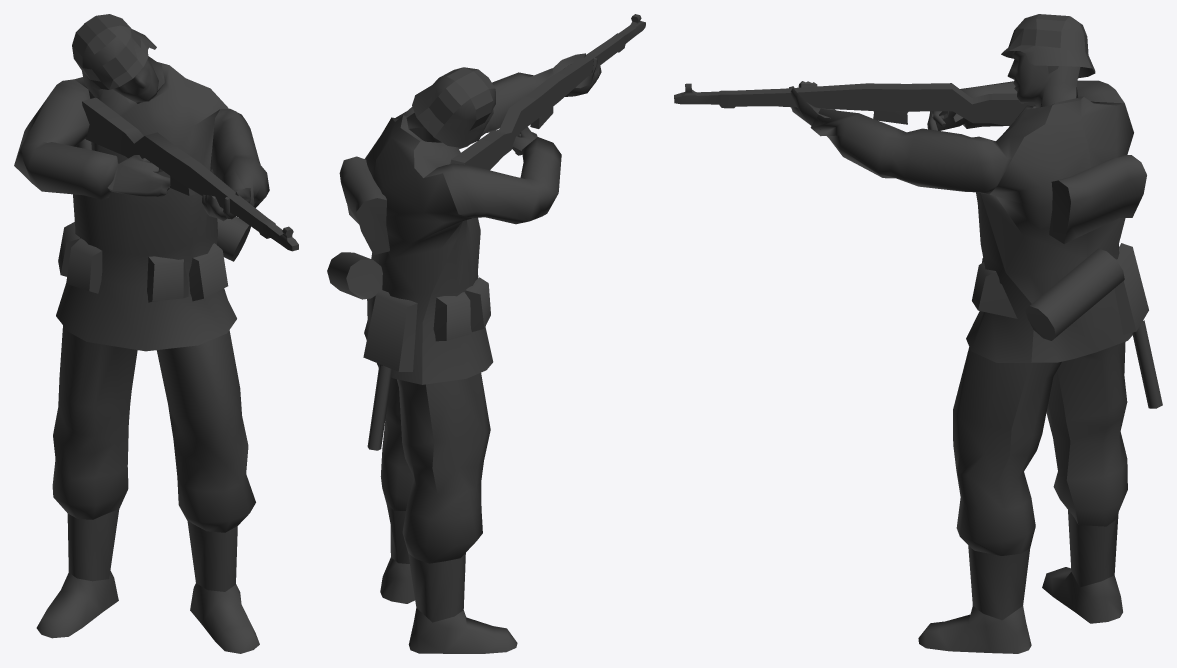
File: de_fucile2_piedi.glb
The picture shows the model from 3 angles, left to right: view 1: azimuth 30°, elevation 25°; view 2: azimuth 150°, elevation 25°; view 3: azimuth 270°, elevation 25°; orthographic projection. The views are drawn at different scales.
Parts seen in each view (by area): view 1: polySurface19.001_2; view 2: polySurface19.001_2; view 3: polySurface19.001_2.
Part boxes in pixels (x1,y1,x2,y2): polySurface19.001_2: [14, 14, 298, 653]; polySurface19.001_2: [327, 14, 645, 653]; polySurface19.001_2: [674, 14, 1162, 653].
Size of the model in its own units: 0.2048 by 0.5 by 0.374.
Materials: 1 (1 with a texture image).
